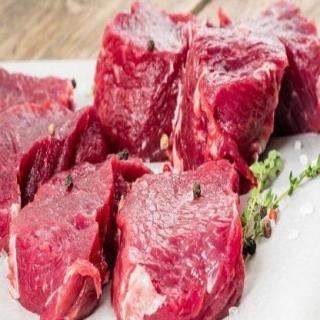Daging Sapi: (11, 152, 140, 320), (119, 172, 245, 320), (186, 24, 284, 196), (95, 3, 187, 155)
